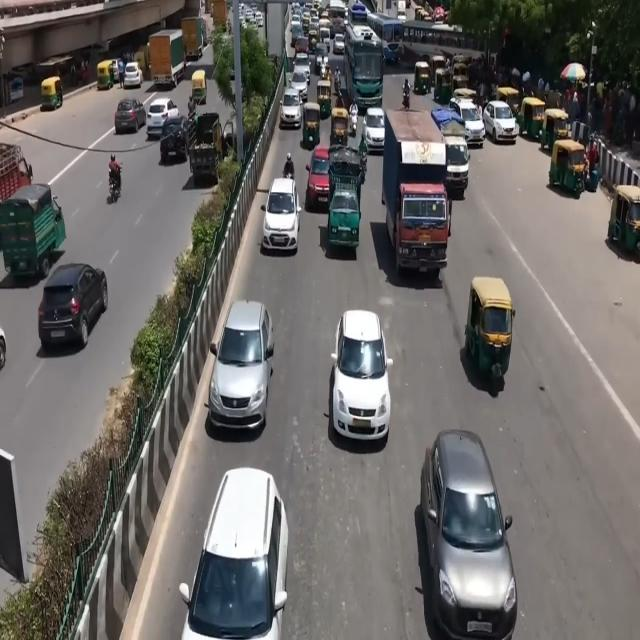auto: (464, 274, 514, 380), (549, 137, 588, 197), (607, 185, 639, 256), (542, 106, 571, 152), (519, 96, 546, 142), (302, 101, 321, 147), (496, 85, 520, 119), (40, 75, 63, 110), (330, 106, 349, 148), (96, 59, 120, 91), (316, 78, 332, 120), (434, 66, 452, 101), (414, 60, 431, 95), (191, 68, 207, 105), (452, 60, 471, 91)
bike-auto: (108, 152, 122, 195), (283, 153, 295, 180), (349, 101, 358, 134), (334, 69, 342, 95), (402, 86, 410, 110)
